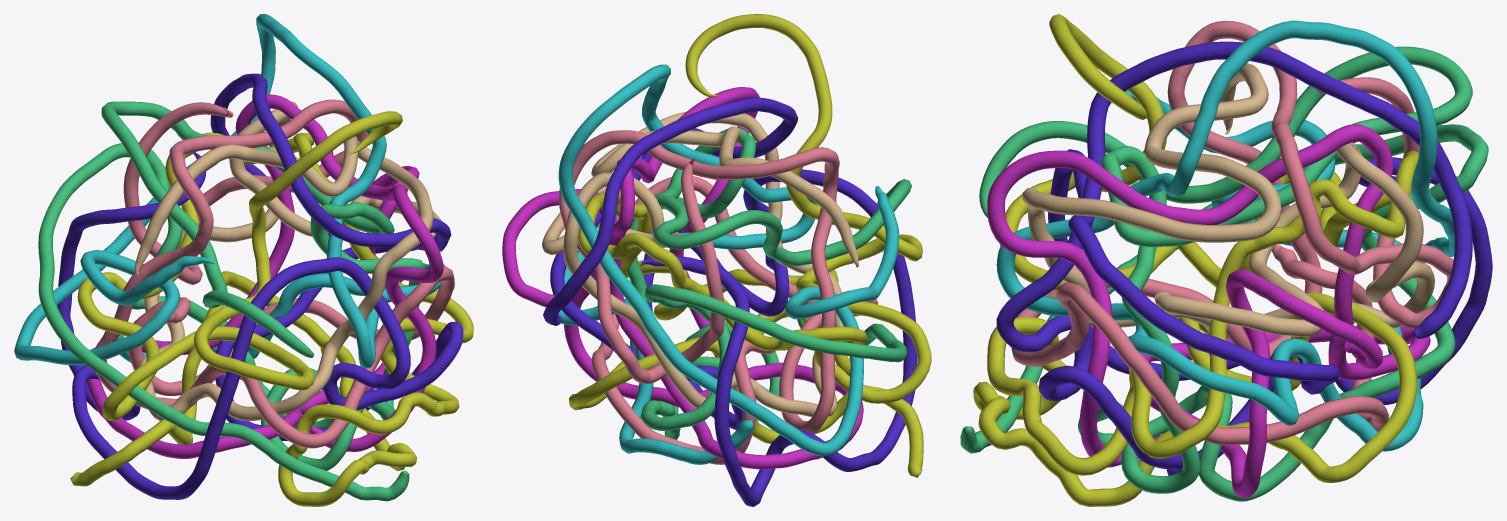
The model's file is NoodleSphere.glb.
The picture shows the model from 3 angles, left to right: view 1: azimuth 30°, elevation 25°; view 2: azimuth 150°, elevation 25°; view 3: azimuth 270°, elevation 25°; orthographic projection. The views are drawn at different scales.
Parts seen in each view (by area): view 1: brush_Toon_g0_b0; view 2: brush_Toon_g0_b0; view 3: brush_Toon_g0_b0.
Part boxes in pixels (x1,y1,x2,y2): brush_Toon_g0_b0: (14,14,473,506); brush_Toon_g0_b0: (502,14,931,506); brush_Toon_g0_b0: (960,14,1492,506).
Bounding box in the file's own units: 1.61 × 1.59 × 1.6.
